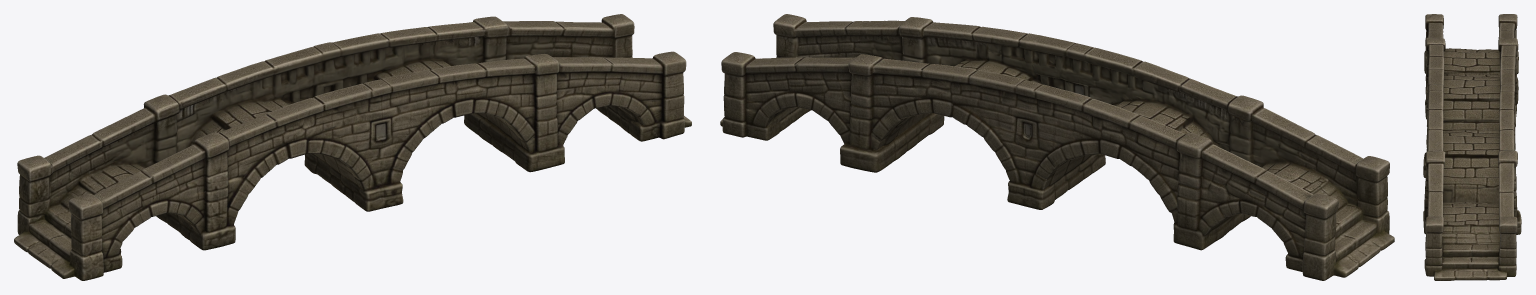
Rendered from lib_stone_bridge.hd.glb.
The picture shows the model from 3 angles, left to right: view 1: azimuth 30°, elevation 25°; view 2: azimuth 150°, elevation 25°; view 3: azimuth 270°, elevation 25°; orthographic projection. The views are drawn at different scales.
Parts seen in each view (by area): view 1: mesh_node; view 2: mesh_node; view 3: mesh_node.
Part boxes in pixels (<box>): mesh_node: <box>14,14,691,280</box>; mesh_node: <box>720,14,1394,280</box>; mesh_node: <box>1423,14,1521,280</box>.
Size of the model in its own units: 1.9 by 0.3419 by 0.36.
Materials: 1 (1 with a texture image).
